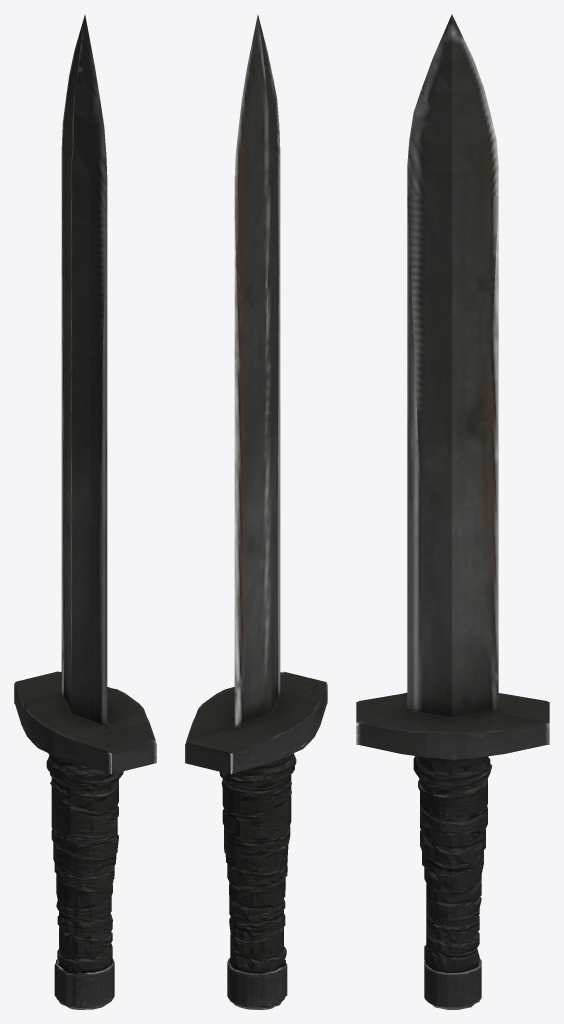
The model's file is flying_sword_feixuan.obj.
3 renders of one model, left to right at view 1: azimuth 30°, elevation 25°; view 2: azimuth 150°, elevation 25°; view 3: azimuth 270°, elevation 25°, orthographic.
Bounding box in the file's own units: 0.7984 × 8 × 1.42.
